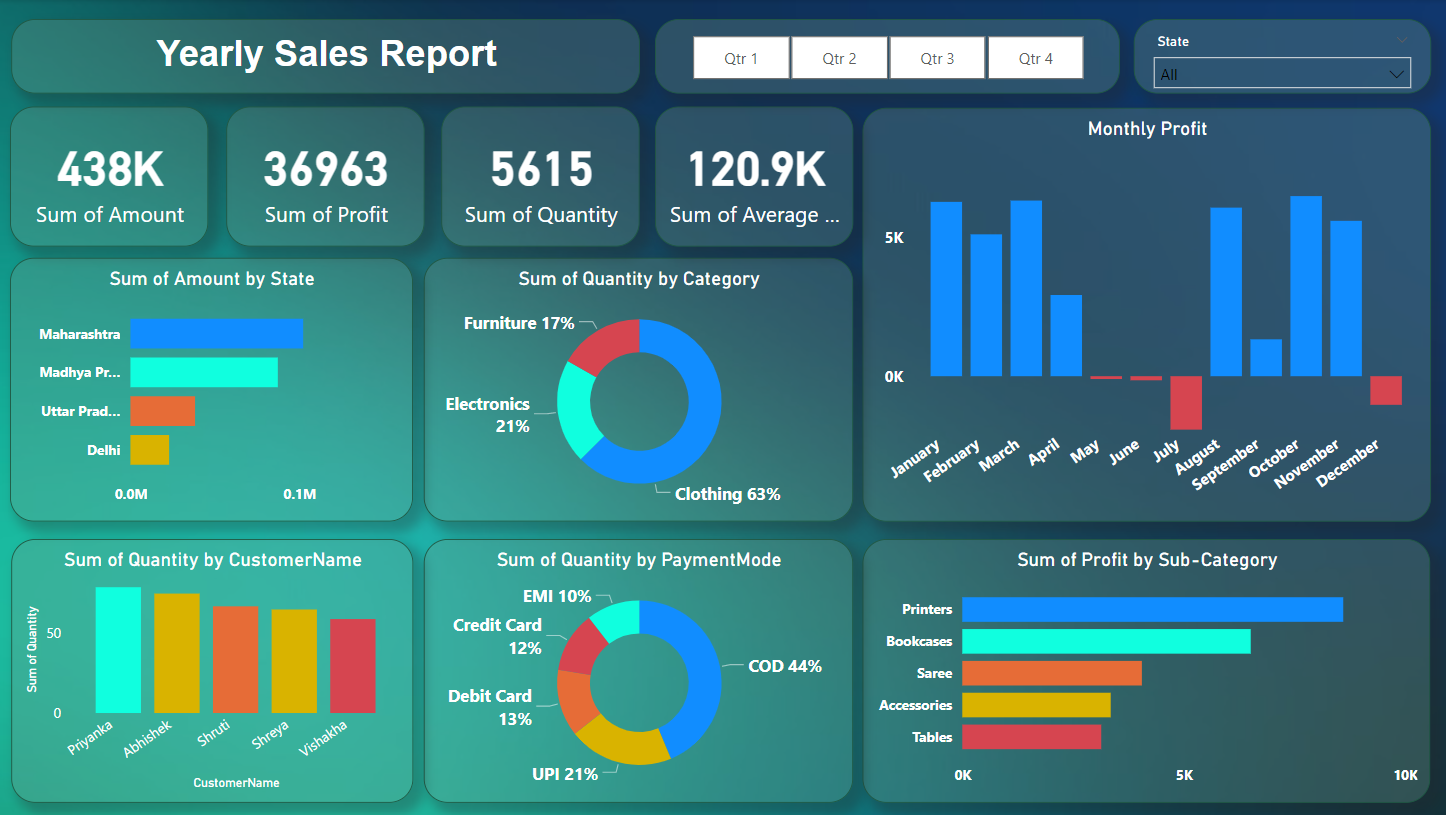

The dashboard page shown, as its layout file describes it:
{"tool":"powerbi","page":{"name":"Page 1","canvas":[1280,720],"ordinal":0},"visuals":[{"type":"textbox","box":[14.3,17.6,544.1,66],"z":0},{"type":"columnChart","title":"Monthly Profit","fields":{"Y":["Details.Profit"],"Category":["Orders.Order Date.Variation.Date Hierarchy.Month"]},"box":[762.8,95.2,499.8,364.2],"z":1000},{"type":"barChart","fields":{"Category":["Details.Sub-Category"],"Y":["Details.Profit"]},"box":[763,474.8,499.5,231.9],"z":2000},{"type":"donutChart","fields":{"Category":["Details.Category"],"Y":["Details.Quantity"]},"box":[377.4,227.8,377.4,231.9],"z":3000},{"type":"donutChart","fields":{"Category":["Details.PaymentMode"],"Y":["Details.Quantity"]},"box":[377.4,474.8,377.4,231.9],"z":4000},{"type":"card","fields":{"Values":["Details.Average Order Value"]},"box":[566.1,94.5,188,123.1],"z":5000},{"type":"card","fields":{"Values":["Details.Quantity"]},"box":[377,94.5,181.4,123.1],"z":6000},{"type":"card","fields":{"Values":["Details.Profit"]},"box":[194.6,95.6,173.7,123.1],"z":7000},{"type":"card","fields":{"Values":["Details.Amount"]},"box":[13.7,94.7,174.3,123.5],"z":8000},{"type":"barChart","fields":{"Category":["Orders.State"],"Y":["Details.Amount"]},"box":[13.7,227.8,354,231.9],"z":9000},{"type":"columnChart","fields":{"Category":["Orders.CustomerName"],"Y":["Details.Quantity"]},"box":[14.3,474.8,353.5,232.1],"z":10000},{"type":"slicer","fields":{"Values":["Orders.Order Date.Variation.Date Hierarchy.Quarter"]},"box":[566.1,17.6,423.2,66],"z":11000},{"type":"slicer","fields":{"Values":["Orders.State"]},"box":[1001.4,17.6,261.6,66],"z":12000}]}

Visuals, with their boxes in screenshot pixels (x1, y1, x2, y2), scaled from the page's 1280x720 canvas onto the 1446x815 screenshot:
textbox: box=[16, 20, 631, 95]
"Monthly Profit" columnChart: box=[862, 108, 1426, 520]
barChart - Details.Sub-Category x Details.Profit: box=[862, 537, 1426, 800]
donutChart - Details.Category x Details.Quantity: box=[426, 258, 853, 520]
donutChart - Details.PaymentMode x Details.Quantity: box=[426, 537, 853, 800]
card - Details.Average Order Value: box=[640, 107, 852, 246]
card - Details.Quantity: box=[426, 107, 631, 246]
card - Details.Profit: box=[220, 108, 416, 248]
card - Details.Amount: box=[15, 107, 212, 247]
barChart - Orders.State x Details.Amount: box=[15, 258, 415, 520]
columnChart - Orders.CustomerName x Details.Quantity: box=[16, 537, 415, 800]
slicer - Orders.Order Date.Variation.Date Hierarchy.Quarter: box=[640, 20, 1118, 95]
slicer - Orders.State: box=[1131, 20, 1427, 95]
